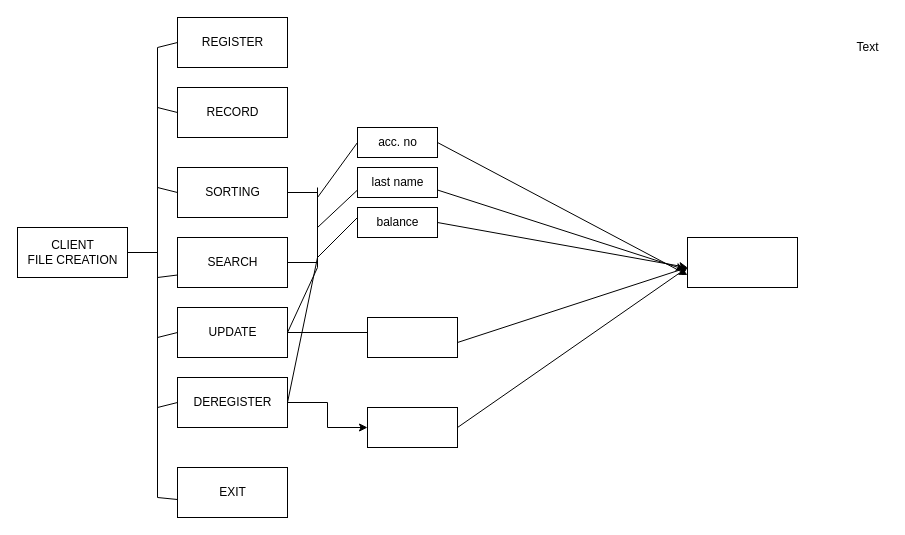
The diagram is 905 pixels wide and 535 high, and some of its shapes have lost their labels. Here are the shapes that lost their labels. From the top down, the centre of each, then its label:
At point 742,262: "BANKING SYSTEM".
At point 412,337: "change balance".
At point 412,427: "direct deregister".
